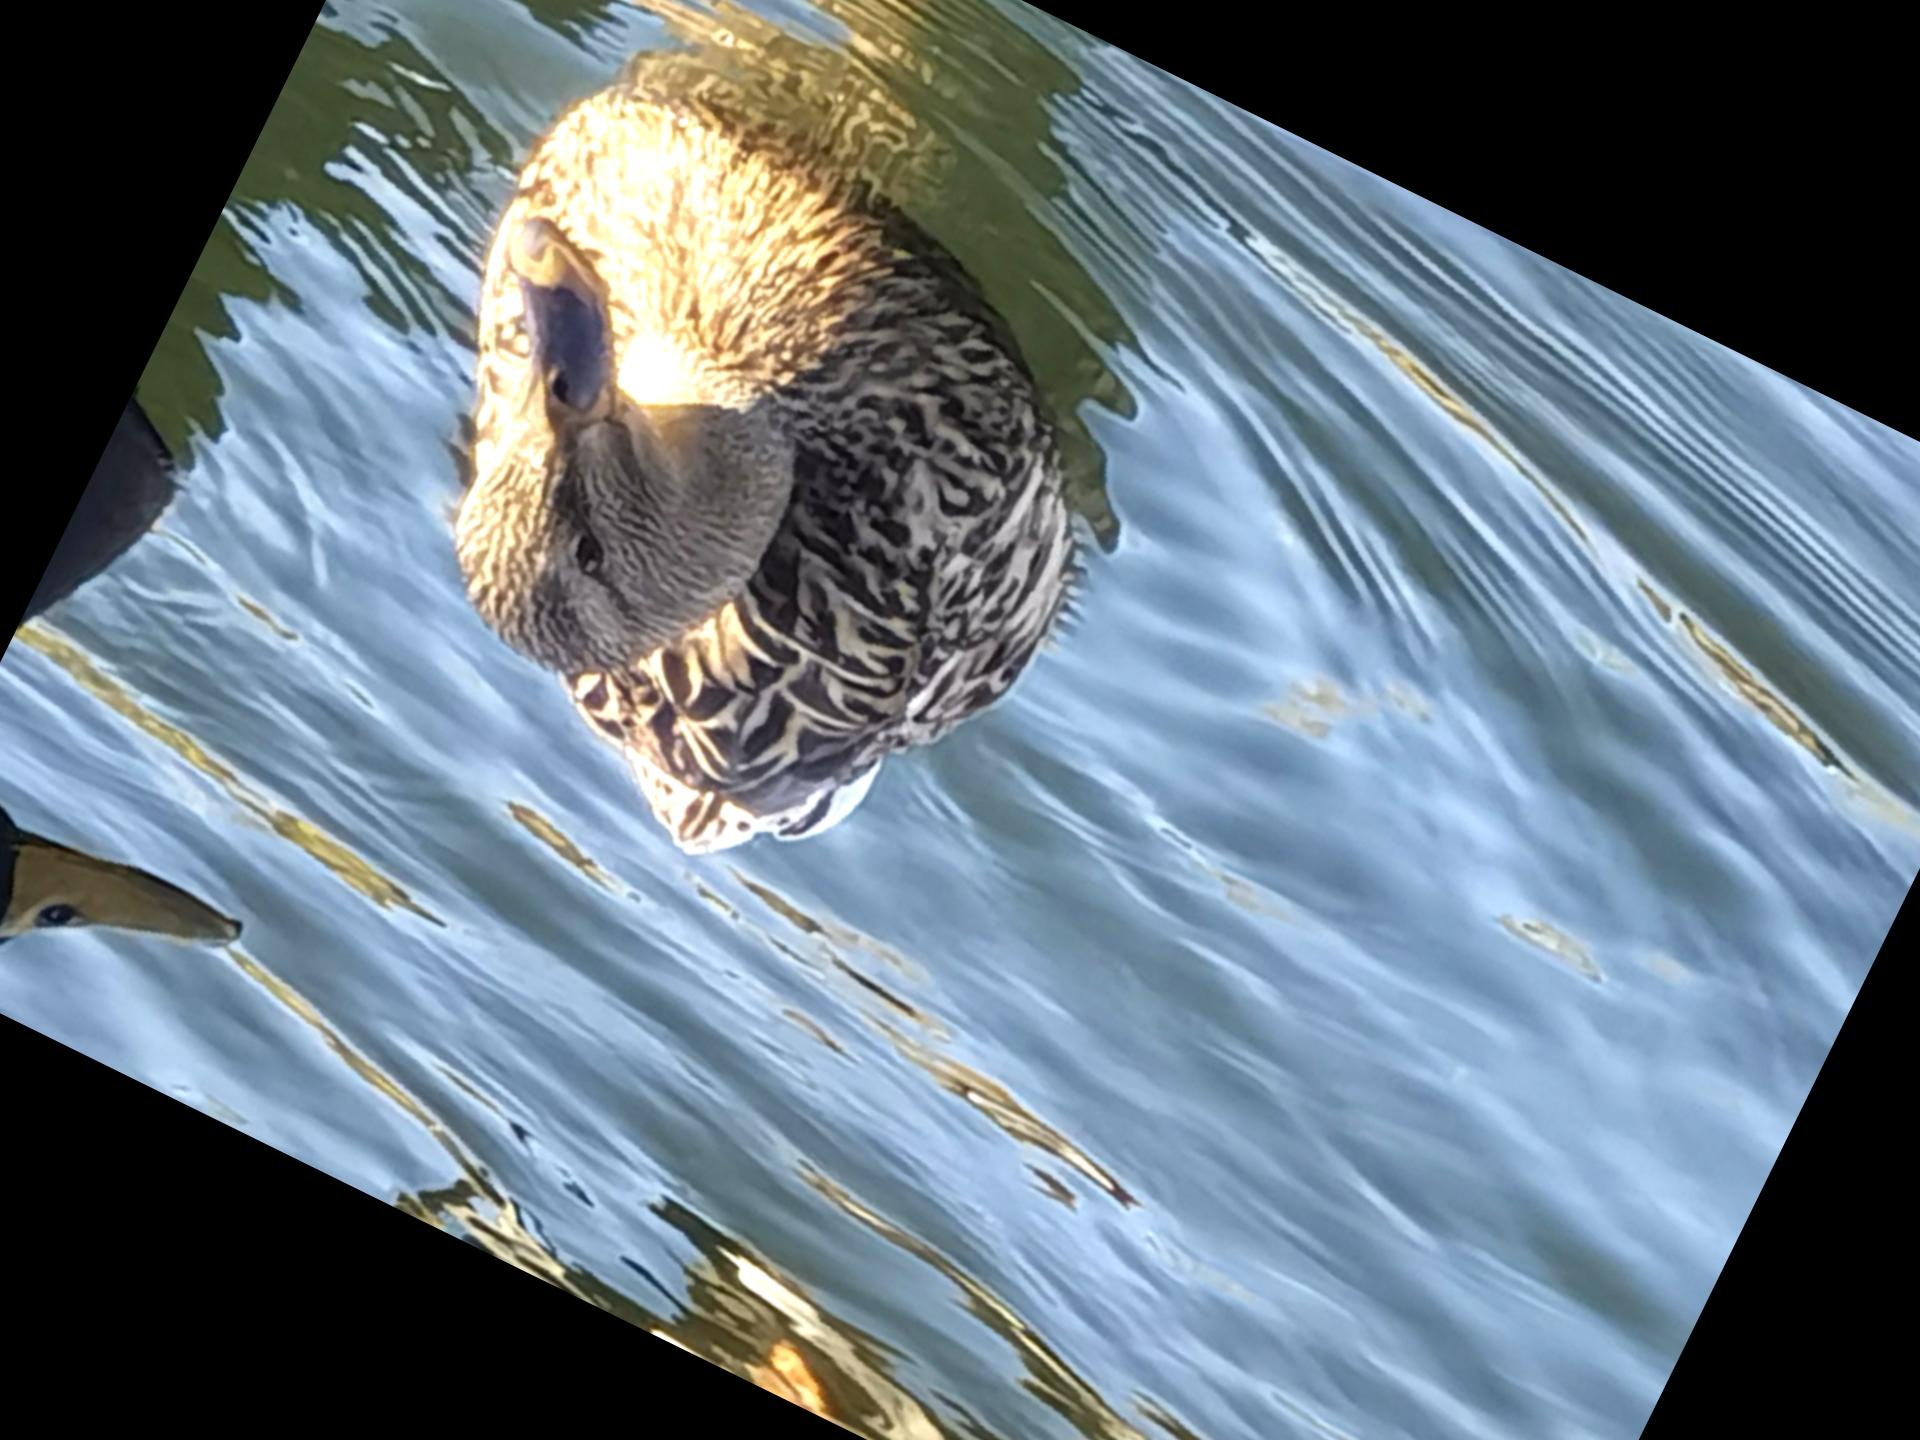duck: (230, 23, 1214, 1001)
